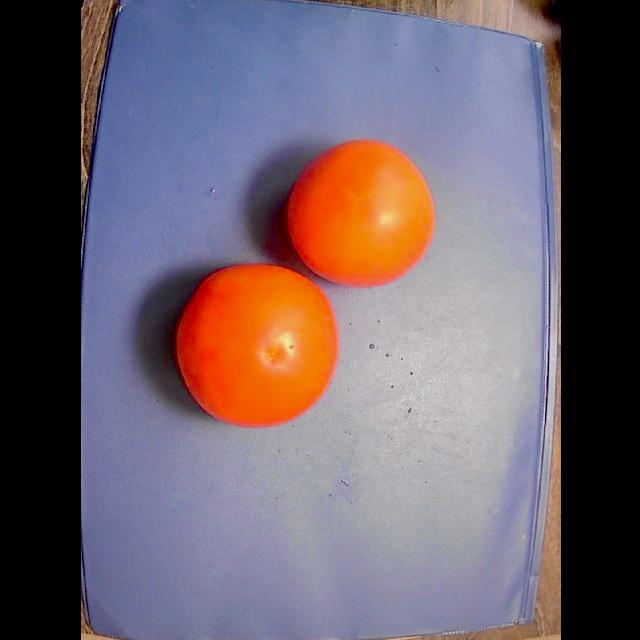tomate: (176, 265, 338, 428), (287, 141, 434, 287)
